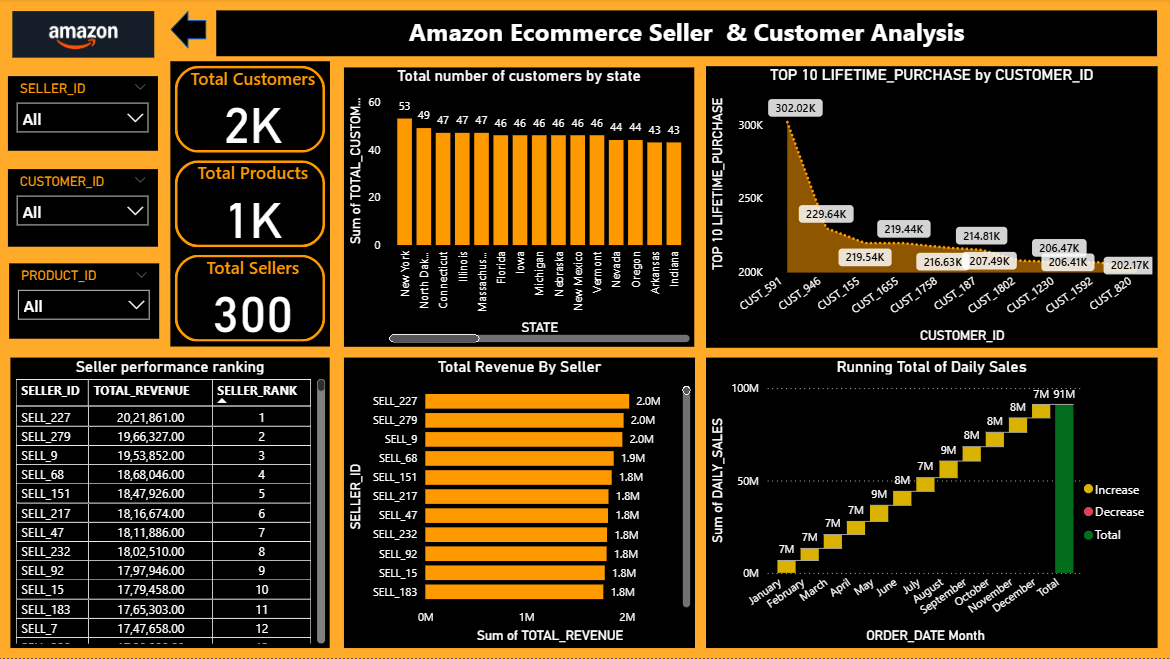

This screenshot's page, from the dashboard's own definition file:
{"tool":"powerbi","page":{"name":"Cus_Sell_table","canvas":[1280,720],"ordinal":1},"visuals":[{"type":"image","box":[10.8,5.4,165.1,69],"z":0},{"type":"barChart","title":"Total Revenue By Seller","fields":{"Category":["Query1.SELLER_ID"],"Y":["Sum(Query1.TOTAL_REVENUE)"]},"box":[377.5,392.4,382.9,316.6],"z":1000},{"type":"waterfallChart","title":"Running Total of Daily Sales","fields":{"Category":["Query3.ORDER_DATE.Variation.Date Hierarchy.Year","Query3.ORDER_DATE.Variation.Date Hierarchy.Quarter","Query3.ORDER_DATE.Variation.Date Hierarchy.Month","Query3.ORDER_DATE.Variation.Date Hierarchy.Day"],"Y":["Sum(Query3.DAILY_SALES)"]},"box":[773.1,392,492.4,317],"z":2000},{"type":"tableEx","title":"Seller performance ranking","fields":{"Values":["Query4.SELLER_ID","Sum(Query4.REVENUE)","Sum(Query4.SELLER_RANK)"]},"box":[13.3,392,348.5,317],"z":3000},{"type":"areaChart","fields":{"Category":["Query5.CUSTOMER_ID"],"Y":["Sum(Query5.LIFETIME_PURCHASE)"]},"box":[773.1,73.8,492.4,307.3],"z":4000},{"type":"textbox","box":[238.1,13.5,1027,50.1],"z":5000},{"type":"columnChart","title":"Total number of customers by state","fields":{"Category":["Query6.STATE"],"Y":["Sum(Query6.TOTAL_CUSTOMERS)"]},"box":[377.5,76.2,382.3,304.9],"z":6000},{"type":"cardVisual","fields":{"Data":["Sum(C 1.COUNT(CUSTOMER_ID))","Sum(C 2.count(*))","Sum(C 3.count(*))"]},"box":[188.1,69,174.5,311.2],"z":7000},{"type":"slicer","fields":{"Values":["Query1.SELLER_ID"]},"box":[10.9,85.9,163.3,81.1],"z":8000},{"type":"slicer","fields":{"Values":["Query5.CUSTOMER_ID"]},"box":[10.9,186.3,163.3,84.7],"z":9000},{"type":"slicer","fields":{"Values":["Product_ID.product_id"]},"box":[12.1,289.2,163.3,82.3],"z":10000},{"type":"shape","box":[188.1,13.5,39.2,41.9],"z":10001}]}

Visuals, with their boxes in screenshot pixels (x1, y1, x2, y2), scaled from the page's 1280x720 canvas onto the 1170x659 screenshot:
image: rect(10, 5, 161, 68)
"Total Revenue By Seller" barChart: rect(345, 359, 695, 649)
"Running Total of Daily Sales" waterfallChart: rect(707, 359, 1157, 649)
"Seller performance ranking" tableEx: rect(12, 359, 331, 649)
areaChart - Query5.CUSTOMER_ID x Sum(Query5.LIFETIME_PURCHASE): rect(707, 68, 1157, 349)
textbox: rect(218, 12, 1156, 58)
"Total number of customers by state" columnChart: rect(345, 70, 695, 349)
cardVisual - Sum(C 1.COUNT(CUSTOMER_ID)) x Sum(C 2.count(*)): rect(172, 63, 331, 348)
slicer - Query1.SELLER_ID: rect(10, 79, 159, 153)
slicer - Query5.CUSTOMER_ID: rect(10, 171, 159, 248)
slicer - Product_ID.product_id: rect(11, 265, 160, 340)
shape: rect(172, 12, 208, 51)
